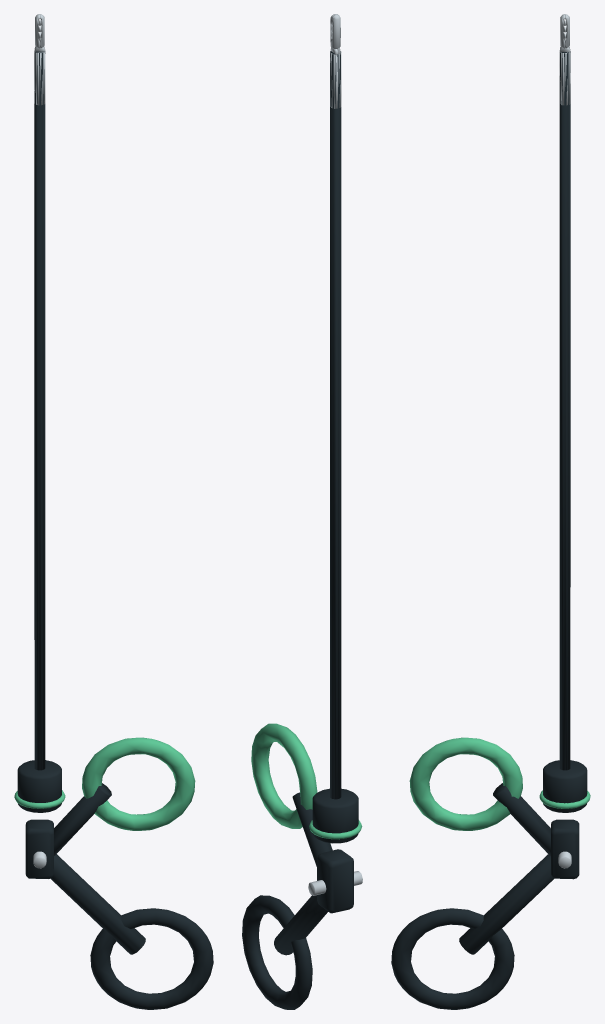
File: inst_atraumatic_grasper.fbx
3 views of the same model, side by side, from view 1: azimuth 90°, elevation 25°; view 2: azimuth 210°, elevation 25°; view 3: azimuth 270°, elevation 25° (orthographic). The views are drawn at different scales.
Visible parts, largest first — view 1: inst_atraumatic_grasper_Geometry, Trigger_Geometry; view 2: inst_atraumatic_grasper_Geometry, Trigger_Geometry, JawLower_Geometry; view 3: inst_atraumatic_grasper_Geometry, Trigger_Geometry.
Part boxes in pixels (<box>): inst_atraumatic_grasper_Geometry: <box>14,51,213,1009</box>; Trigger_Geometry: <box>54,737,195,855</box>; inst_atraumatic_grasper_Geometry: <box>242,51,362,1009</box>; Trigger_Geometry: <box>251,723,332,866</box>; JawLower_Geometry: <box>331,14,340,54</box>; inst_atraumatic_grasper_Geometry: <box>391,50,590,1009</box>; Trigger_Geometry: <box>409,737,550,856</box>.
Bounding box in the file's own units: 0.024 × 0.4897 × 0.0889.
